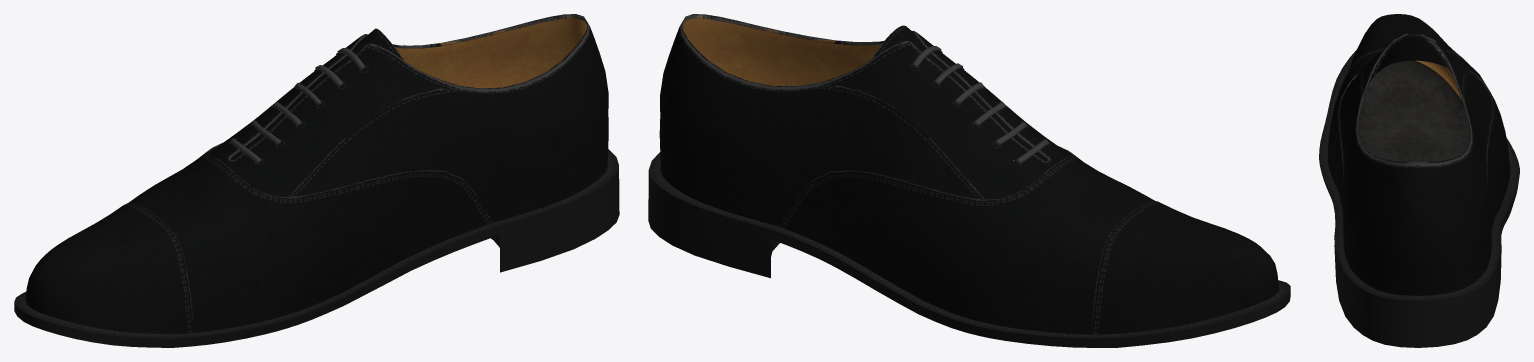
The model's file is Shoe3.fbx.
3 renders of one model, left to right at view 1: azimuth 30°, elevation 25°; view 2: azimuth 150°, elevation 25°; view 3: azimuth 270°, elevation 25°, orthographic. The views are drawn at different scales.
Visible parts, largest first — view 1: Plane, Plane.001; view 2: Plane, Plane.001; view 3: Plane, Plane.001.
Part boxes in pixels (x1,y1,x2,y2): Plane: [14, 14, 619, 347]; Plane.001: [231, 28, 403, 164]; Plane: [648, 14, 1290, 347]; Plane.001: [872, 25, 1047, 165]; Plane: [1319, 14, 1519, 347]; Plane.001: [1368, 34, 1452, 84].
Size of the model in its own units: 443 by 163 by 139.
2 materials, 2 textured.
